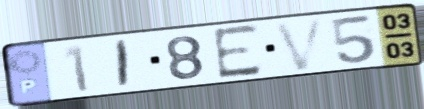1: (62, 42, 91, 94)
5: (328, 12, 379, 66)
8: (164, 34, 208, 81)
E: (210, 22, 266, 82)
I: (115, 37, 131, 91)
V: (272, 15, 329, 73)
